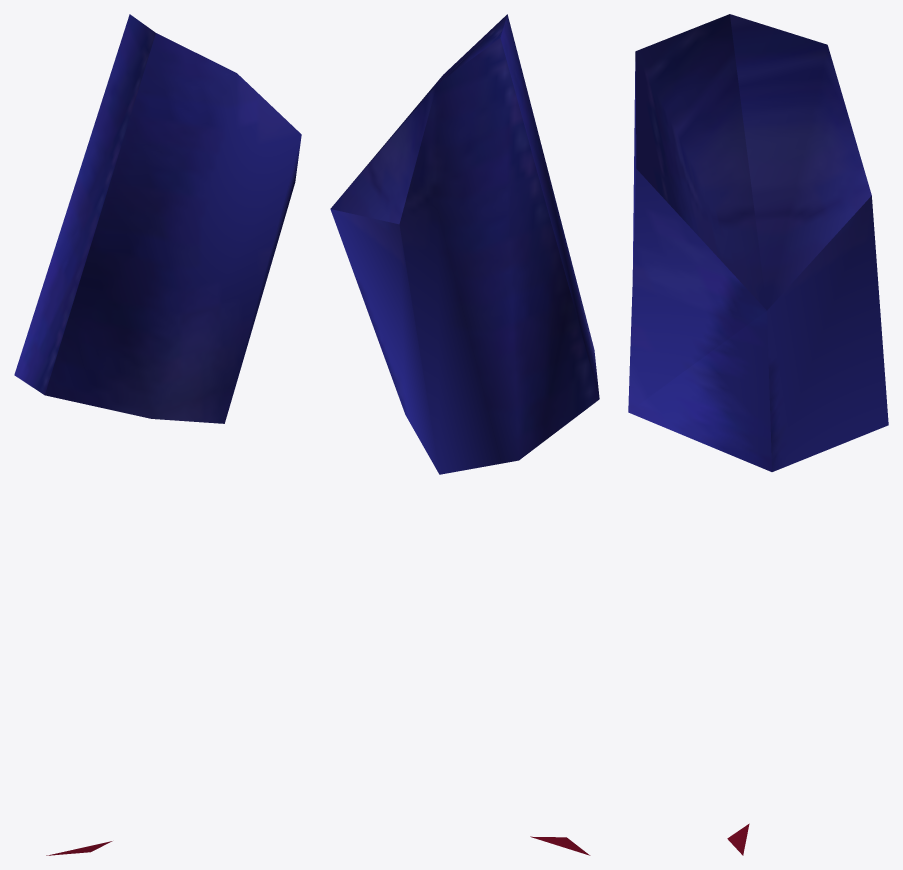
The model's file is RodillaIzqui.obj.
The picture shows the model from 3 angles, left to right: view 1: azimuth 30°, elevation 25°; view 2: azimuth 150°, elevation 25°; view 3: azimuth 270°, elevation 25°; orthographic projection. The views are drawn at different scales.
Visible parts, largest first — view 1: RodillaDere.001; view 2: RodillaDere.001; view 3: RodillaDere.001.
Boxes of the visible parts, box(x1,y1,x2,y2) form: RodillaDere.001: box(14, 14, 301, 855); RodillaDere.001: box(330, 14, 599, 855); RodillaDere.001: box(628, 14, 888, 855).
Size of the model in its own units: 5.35 by 15.66 by 4.29.
3 materials, 3 textured.
